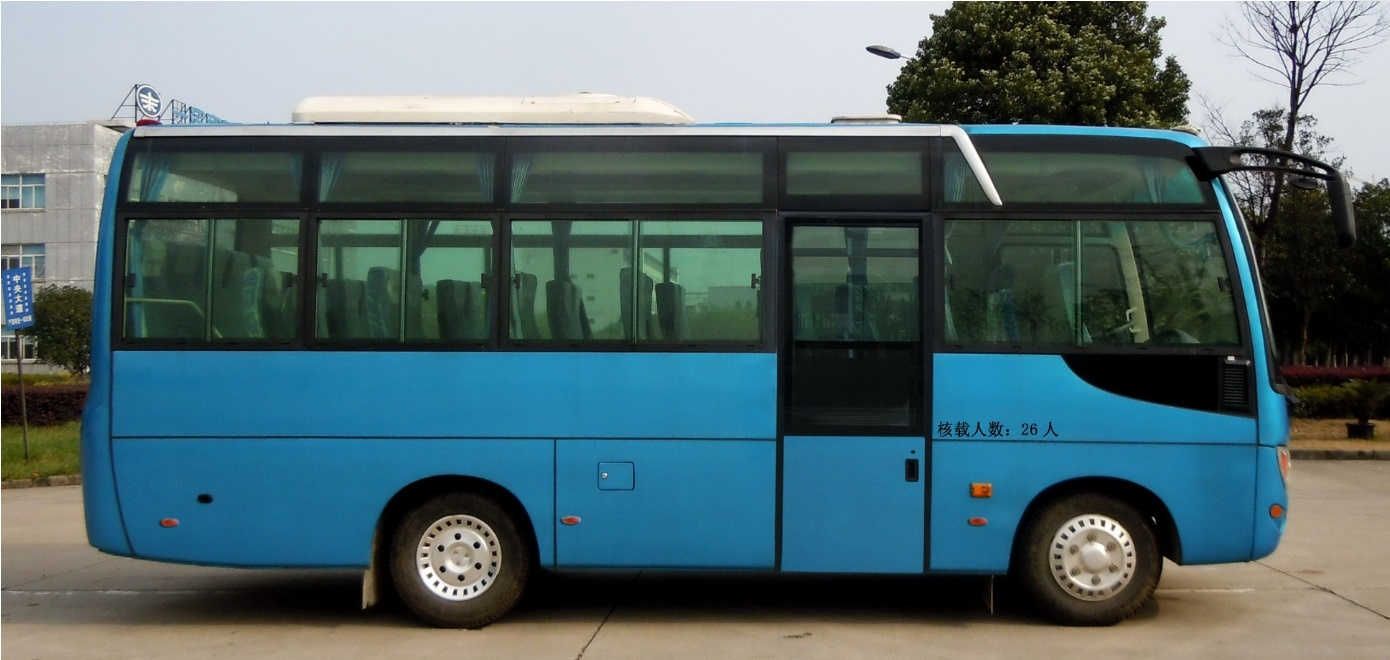bus: (79, 81, 1312, 618)
